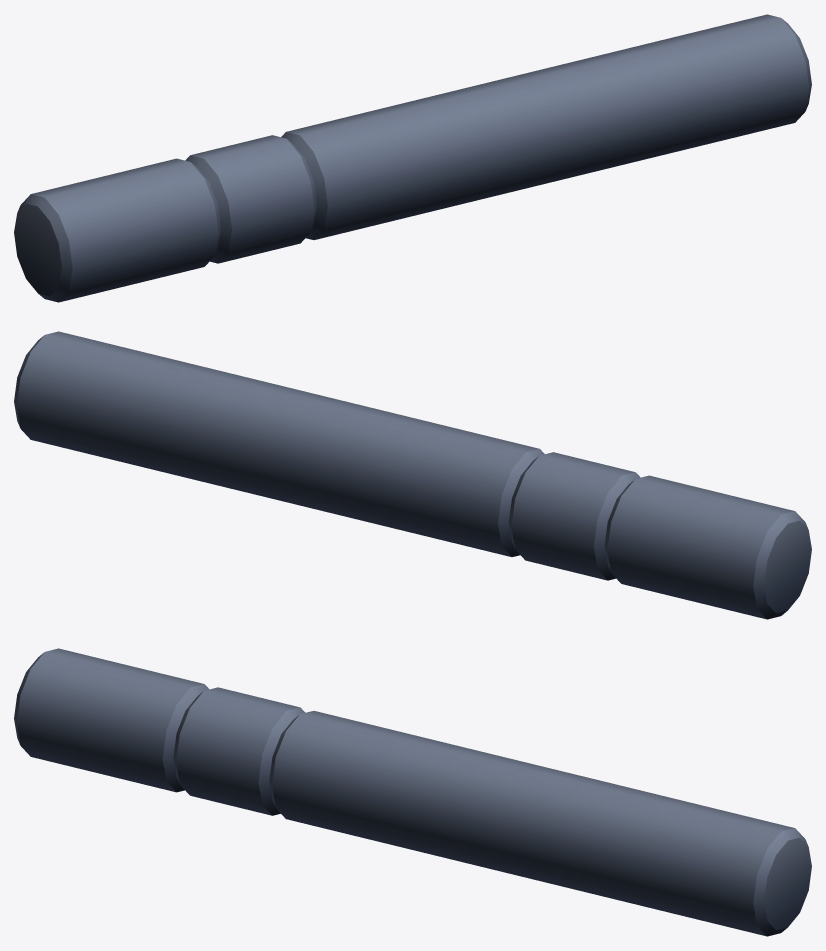
Rendered from Barrel3.FBX.
3 views of the same model, one above another, from view 1: azimuth 30°, elevation 25°; view 2: azimuth 150°, elevation 25°; view 3: azimuth 330°, elevation 25° (orthographic).
Parts seen in each view (by area): view 1: Cylinder004; view 2: Cylinder004; view 3: Cylinder004.
Boxes of the visible parts, left/top/right/bottom form: Cylinder004: left=14, top=14, right=811, bottom=302; Cylinder004: left=14, top=331, right=811, bottom=619; Cylinder004: left=14, top=648, right=811, bottom=936.
Size of the model in its own units: 23.04 by 2.98 by 2.98.
